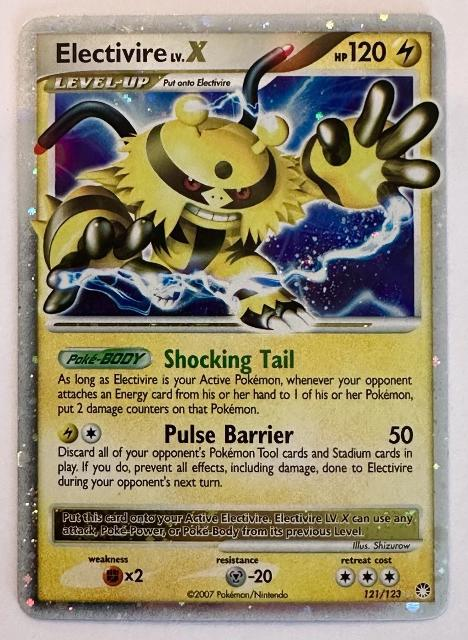Card: (14, 9, 453, 625)
Name: (49, 35, 214, 67)
